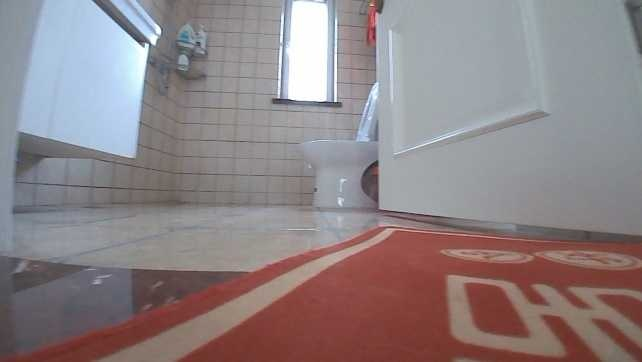blanket: (0, 222, 641, 361)
door_anno: (372, 0, 640, 236)
toilet: (298, 80, 381, 210)
